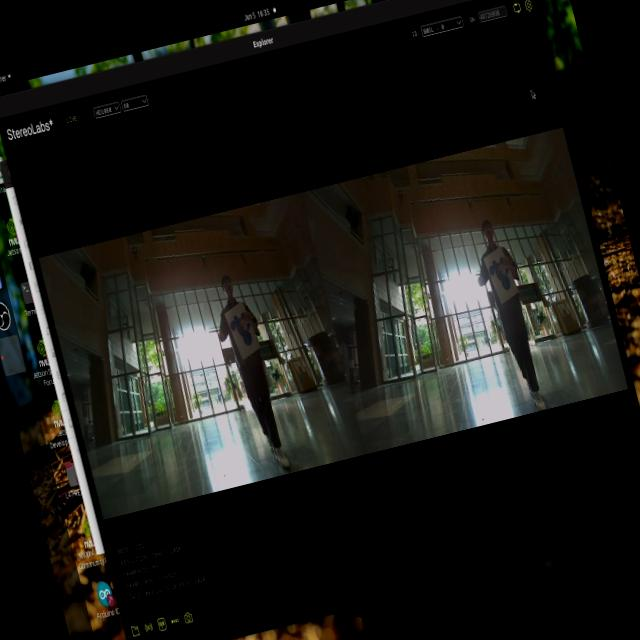blue: (221, 301, 256, 350), (480, 249, 513, 296)
